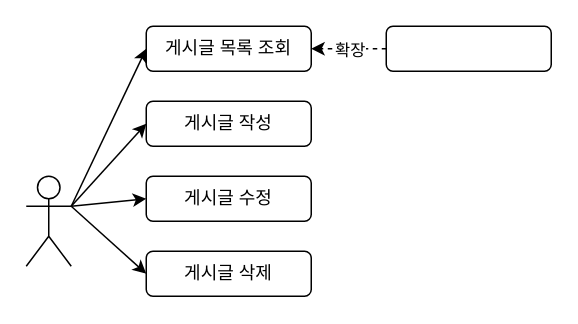
The diagram is 578 pixels wide and 324 high, and some of its shapes have lost their labels. Each missing label, with the centre of its shape:
client: (48,220)
게시글 상세 조회: (468,48)
